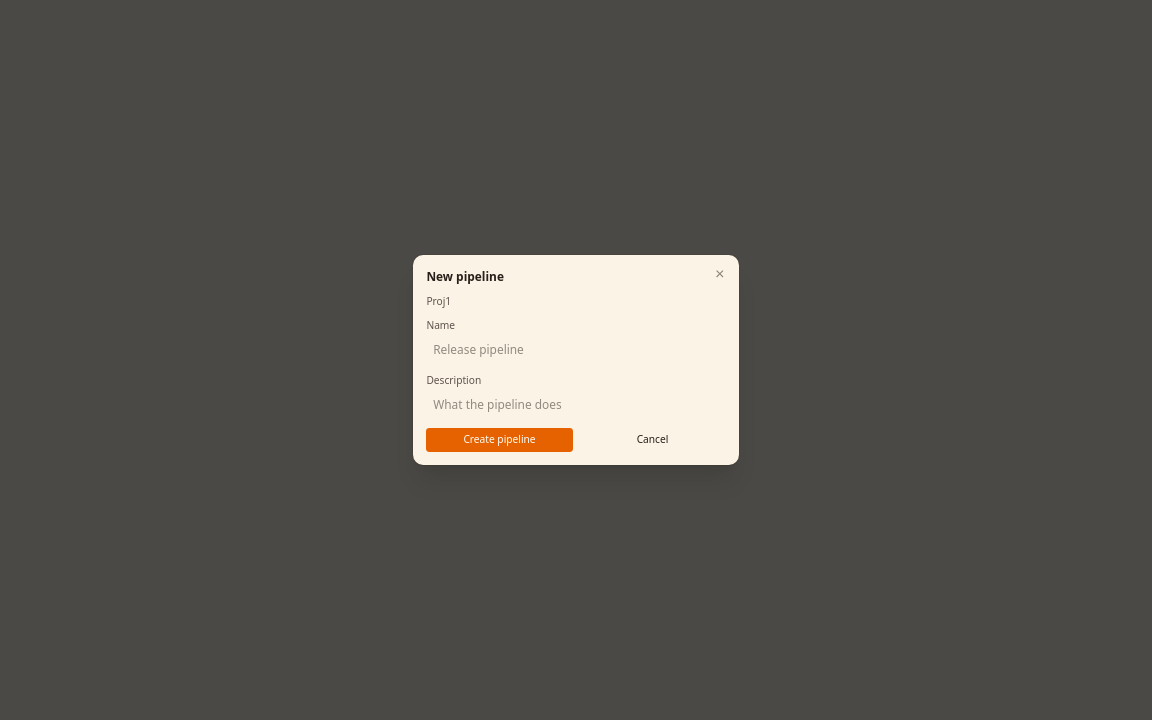
Test: CreatePipelineDialog — тело создания пайплайна › без имени — запрос не уходит
The width and height of the screenshot is (1152, 720).
Click the button "Create pipeline" at coordinates (500, 440), box [426,428,573,452]
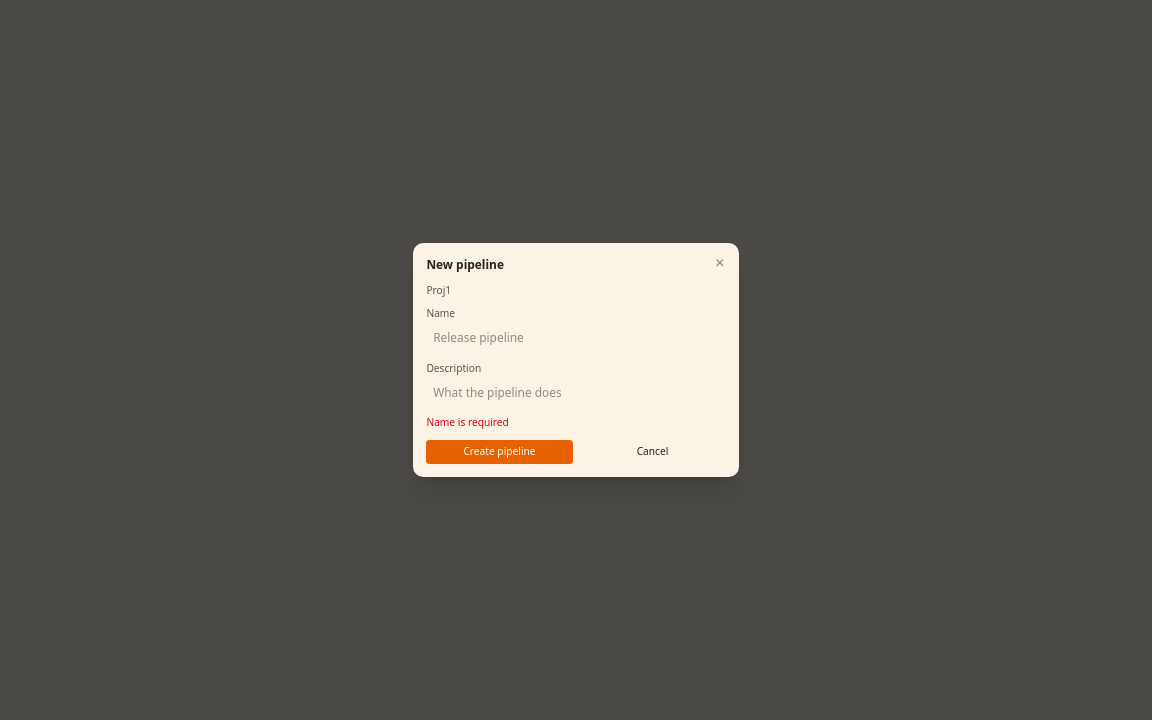
Result: the text "Name is required" is shown at [426,415,509,429]
